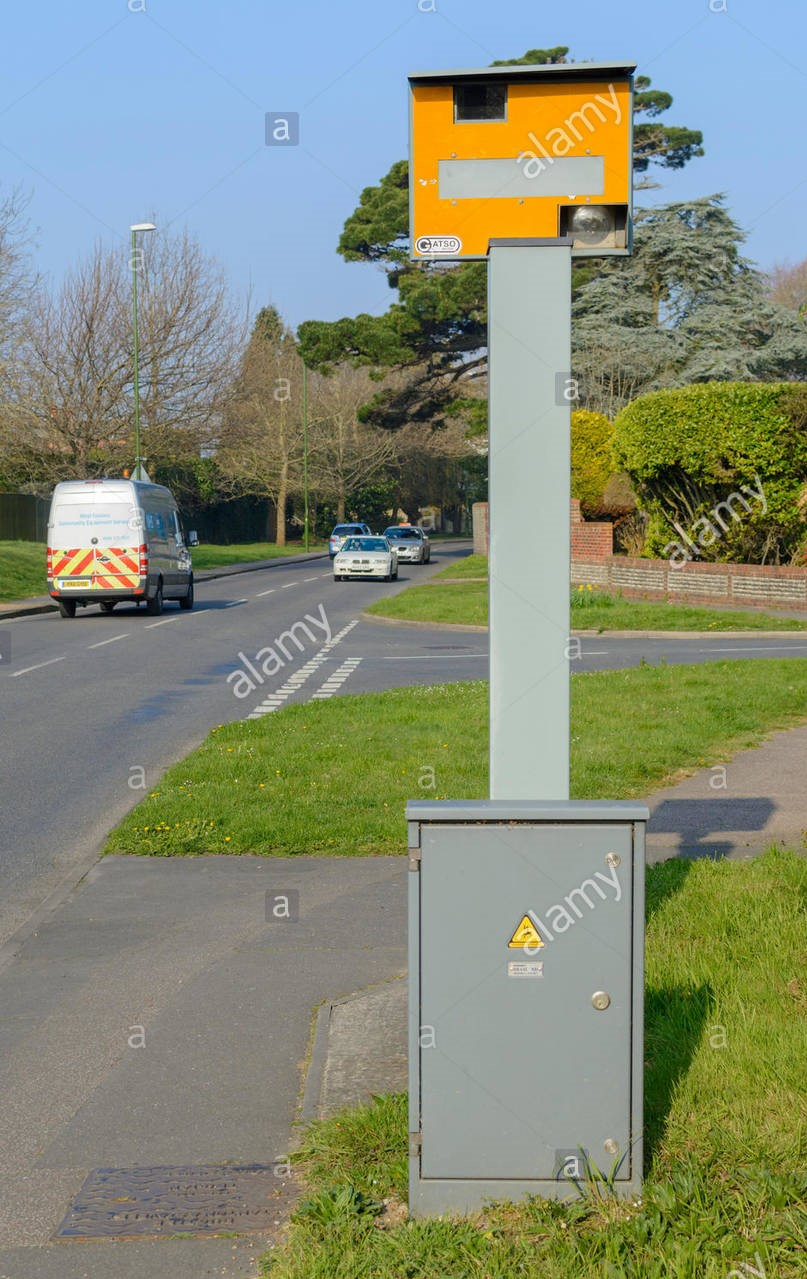Poste: (398, 66, 647, 1212)
